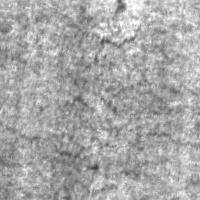crazing: (70, 19, 145, 117), (0, 119, 87, 175), (119, 119, 198, 179)
